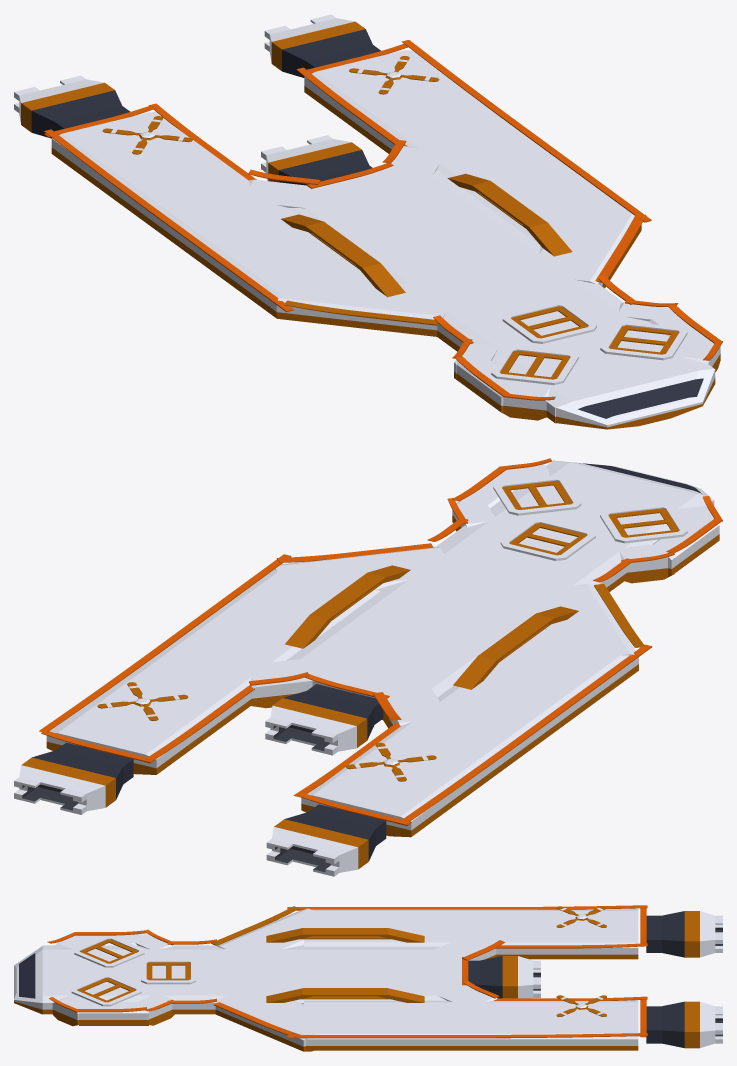
The model's file is SpaceShip3.fbx.
3 views of the same model, one above another, from view 1: azimuth 30°, elevation 25°; view 2: azimuth 150°, elevation 25°; view 3: azimuth 270°, elevation 25° (orthographic). The views are drawn at different scales.
Parts seen in each view (by area): view 1: mergedBlocks; view 2: mergedBlocks; view 3: mergedBlocks.
Part boxes in pixels (x1,y1,x2,y2): mergedBlocks: (14, 14, 722, 429); mergedBlocks: (14, 458, 722, 876); mergedBlocks: (14, 905, 722, 1051).
Bounding box in the file's own units: 174 × 17.19 × 394.
